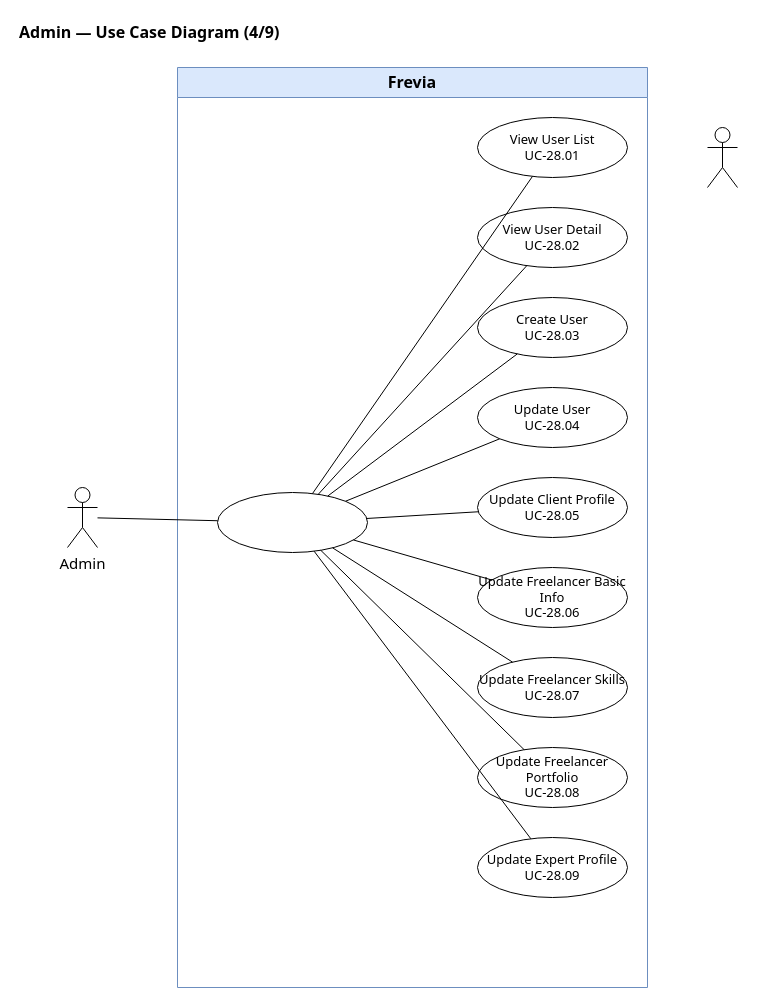
Image size: 760x1005. Some labels were removed from this diagram. Here are the shapes that lost their labels. From the top down, the centre of each, then its label:
the point at 722,157: Stripe
the point at 292,522: User Management UC-28
